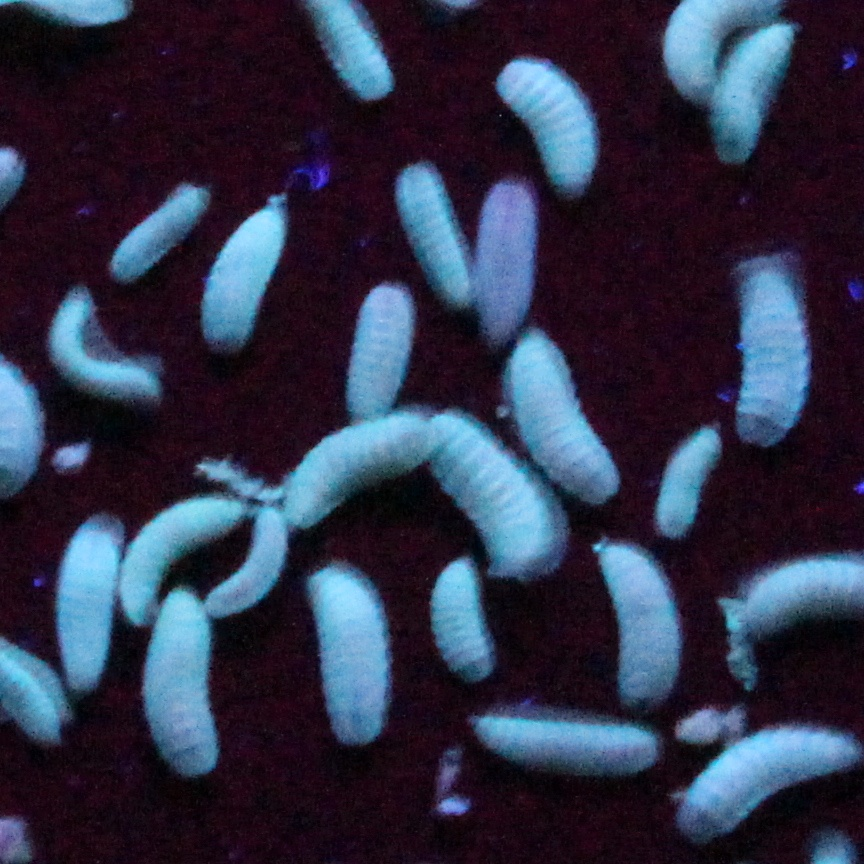larve: (430, 412, 551, 571), (685, 728, 857, 833), (510, 336, 615, 494), (292, 412, 427, 524), (138, 594, 218, 781), (594, 540, 683, 707), (302, 568, 385, 747), (128, 481, 233, 612), (734, 263, 807, 446), (207, 197, 292, 345), (468, 713, 654, 779), (500, 61, 594, 188), (399, 163, 474, 312), (49, 301, 159, 402), (473, 187, 541, 337), (426, 556, 492, 690), (115, 177, 204, 268), (349, 287, 413, 410), (718, 36, 774, 167), (218, 509, 283, 618), (66, 521, 108, 687), (659, 431, 719, 538)
